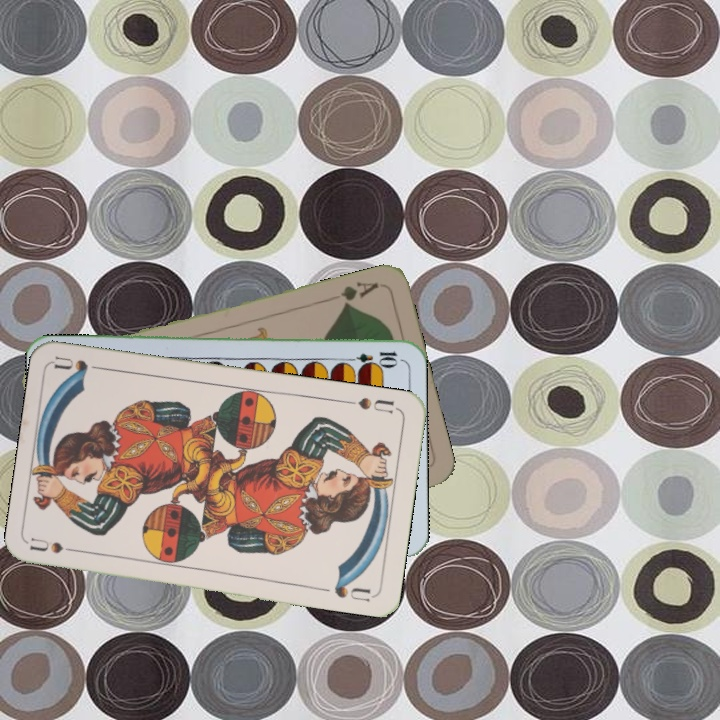E10: (341, 347, 400, 366)
GA: (336, 277, 381, 310)
SU: (28, 534, 88, 556), (342, 393, 397, 416)
